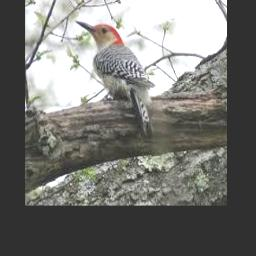Woodpecker: (75, 20, 154, 135)
